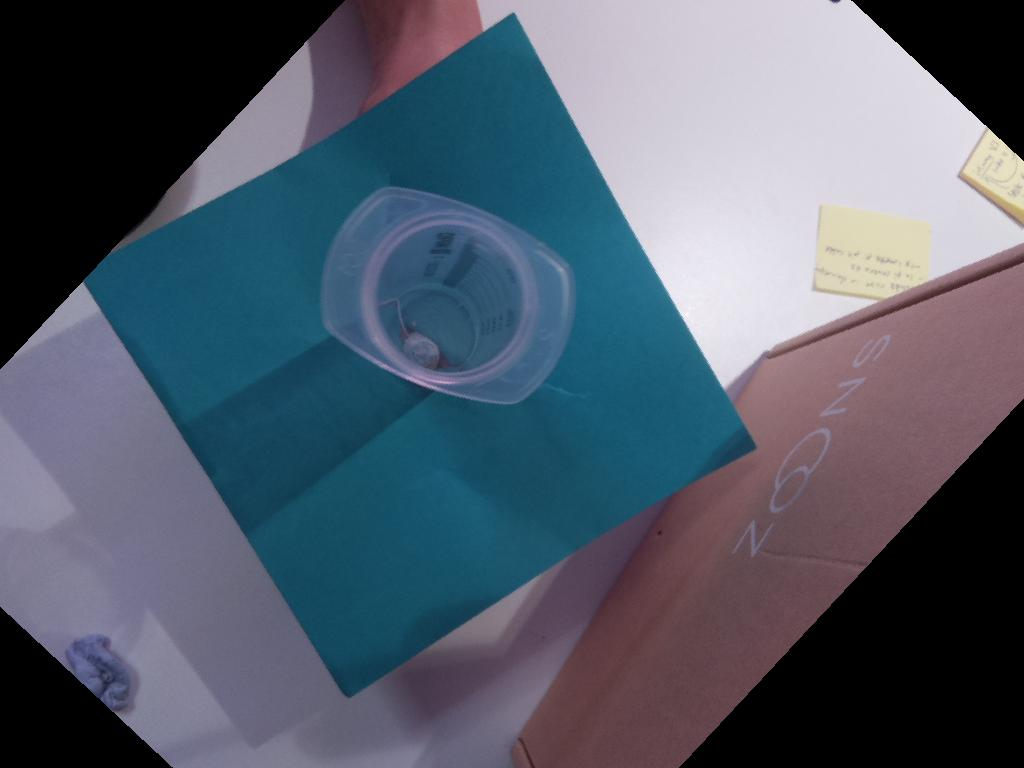clean: (316, 186, 577, 409)
